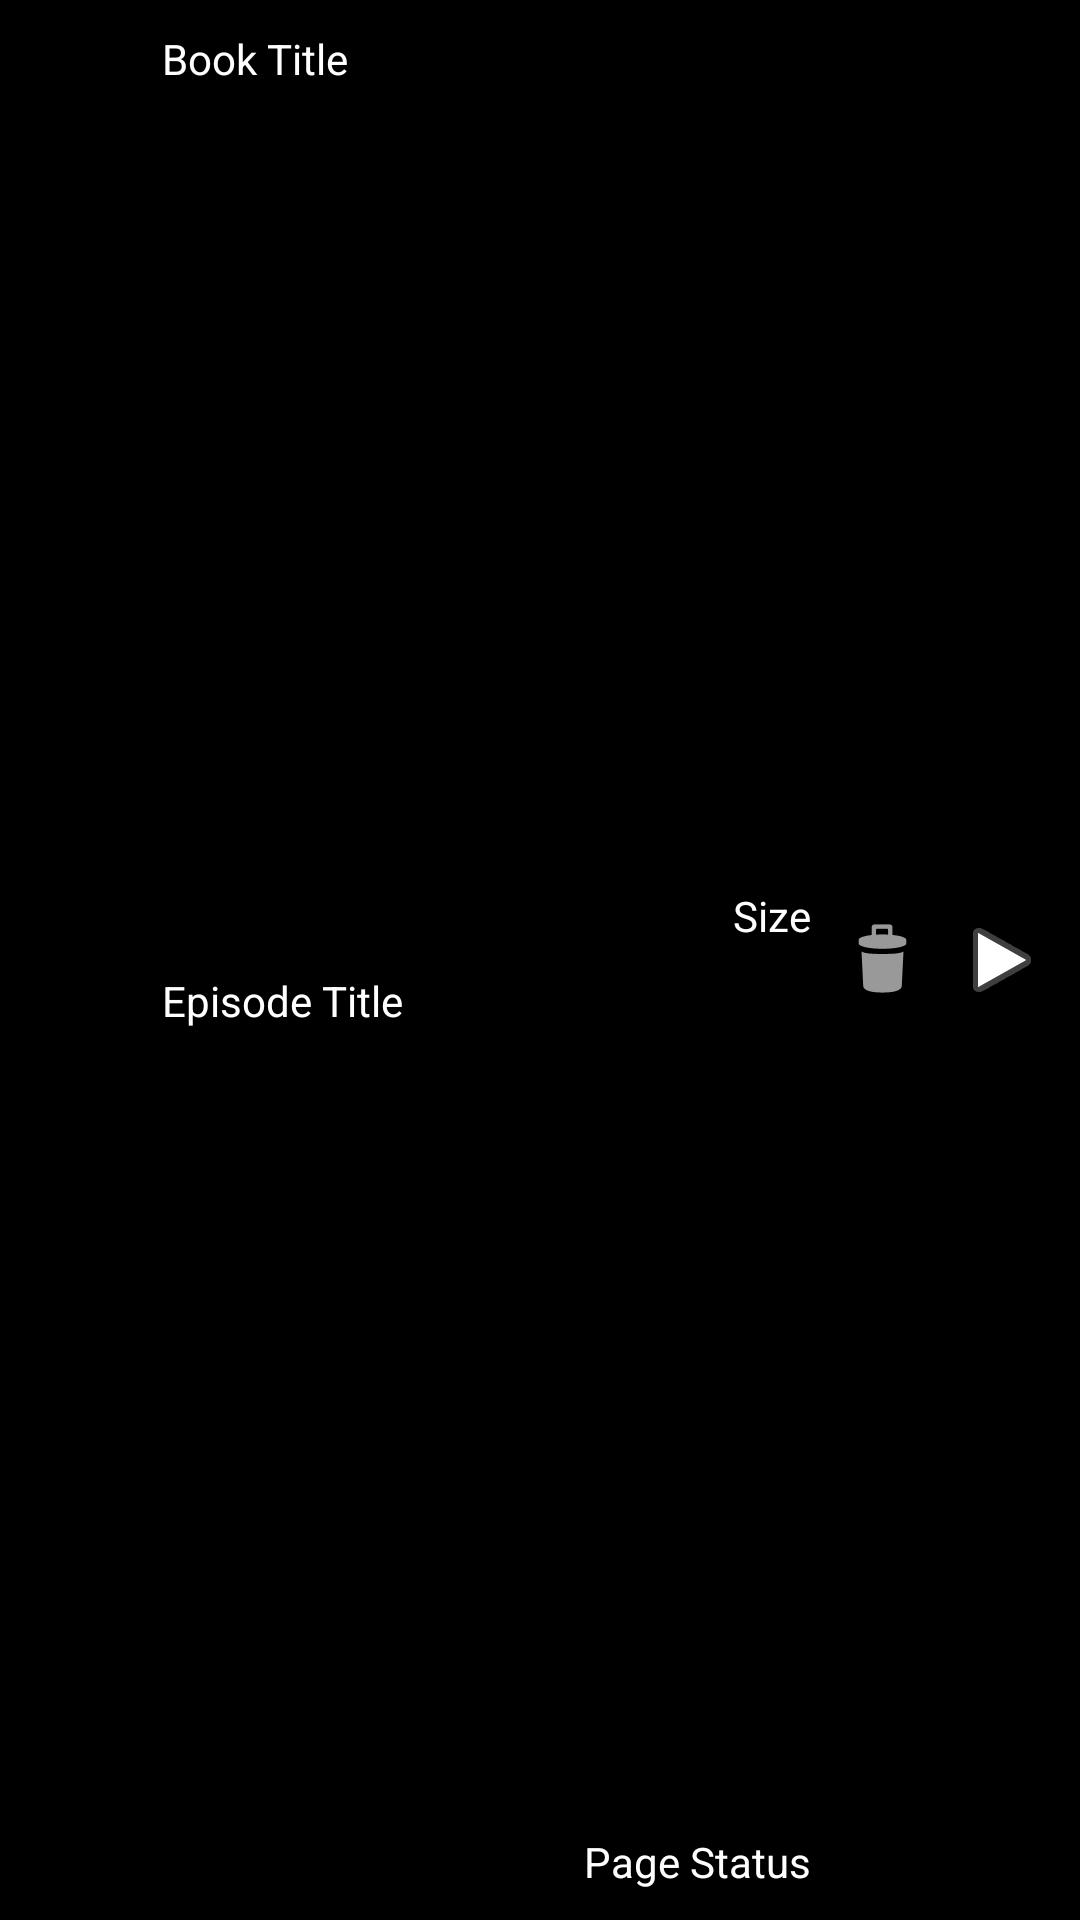

Screen size 1080 × 1920. Icon name, then its center in pixels as point (x, y):
delete: point (882, 958)
play: point (1002, 960)
